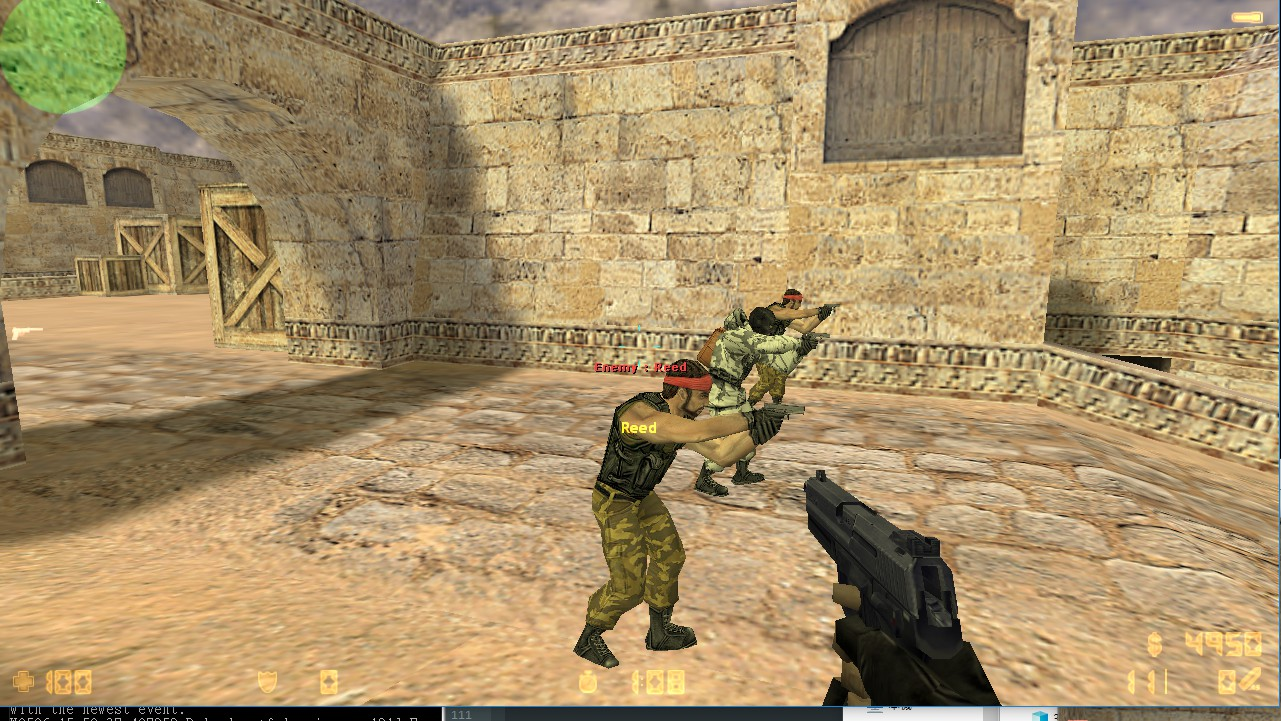person: (584, 353, 701, 672), (702, 304, 779, 504), (767, 279, 819, 424)
